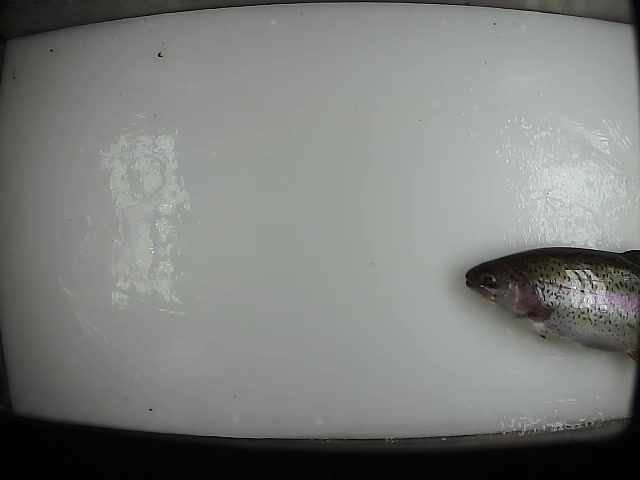fish: (462, 243, 640, 363)
